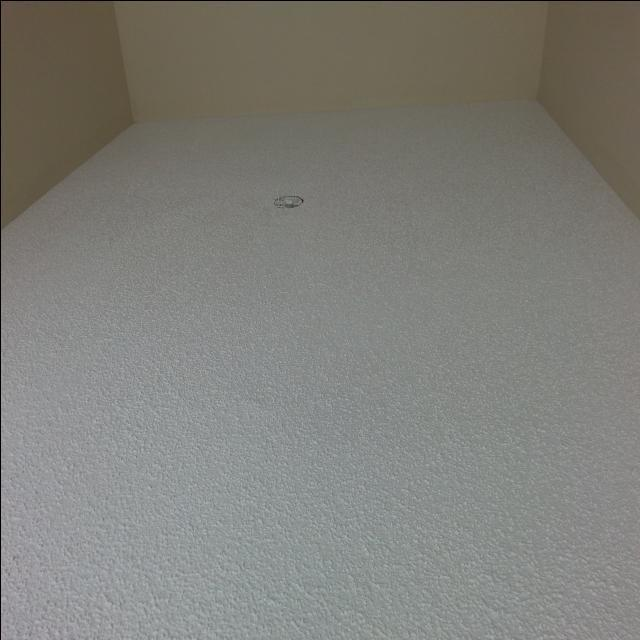Crack: (283, 199, 293, 206)
